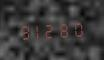eight: (57, 19, 69, 39)
nine: (18, 21, 30, 41)
one: (31, 21, 43, 40)
two: (44, 20, 56, 39)
zero: (70, 19, 82, 38)
